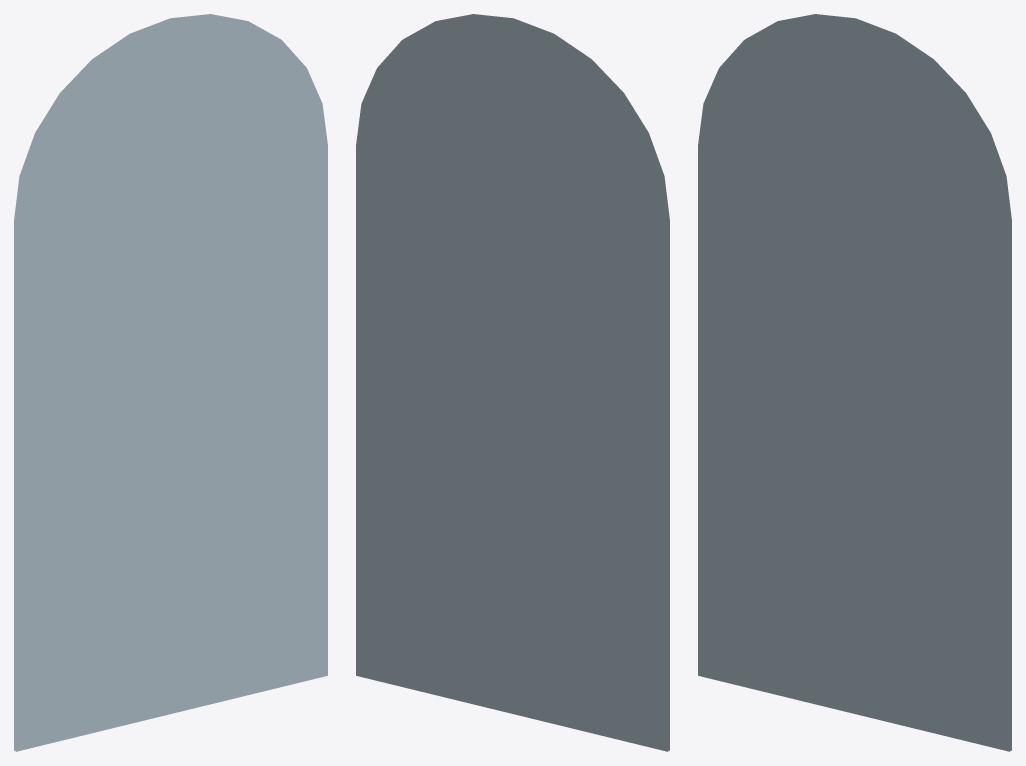
File: SM_Window_Glass.fbx
3 renders of one model, left to right at view 1: azimuth 30°, elevation 25°; view 2: azimuth 150°, elevation 25°; view 3: azimuth 330°, elevation 25°, orthographic.
Parts seen in each view (by area): view 1: SM_Window_Glass; view 2: SM_Window_Glass; view 3: SM_Window_Glass.
Part boxes in pixels (bbox=[...]): SM_Window_Glass: bbox=[14, 14, 327, 751]; SM_Window_Glass: bbox=[356, 14, 669, 751]; SM_Window_Glass: bbox=[698, 14, 1011, 751].
Size of the model in its own units: 1.2 by 2.55 by 0.01.
